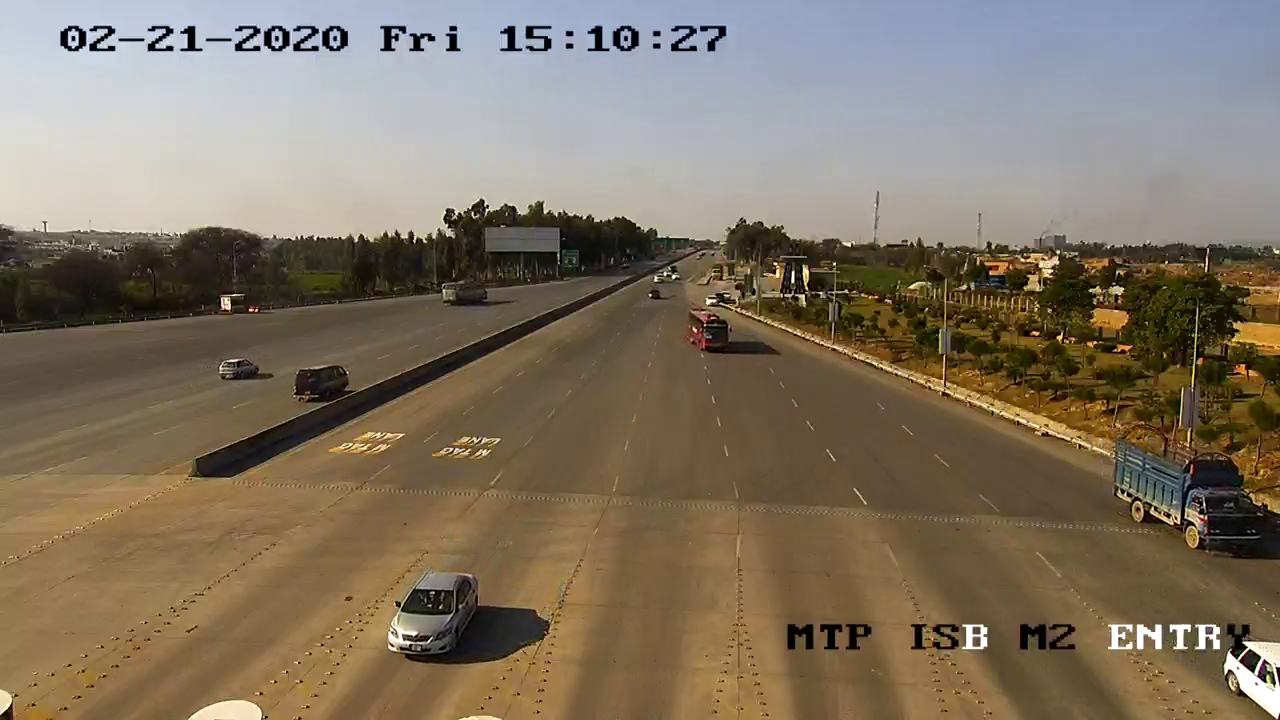f1: (384, 559, 485, 665)
f5: (1115, 434, 1272, 554)
